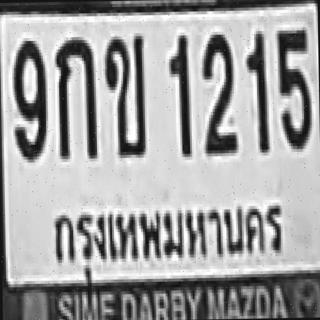A01: (54, 34, 95, 156)
A02: (102, 33, 143, 155)
N01: (166, 32, 190, 154), (244, 29, 266, 151)
N02: (200, 31, 236, 150)
N05: (275, 27, 310, 146)
N09: (12, 38, 44, 160)
P04: (47, 195, 289, 278)
